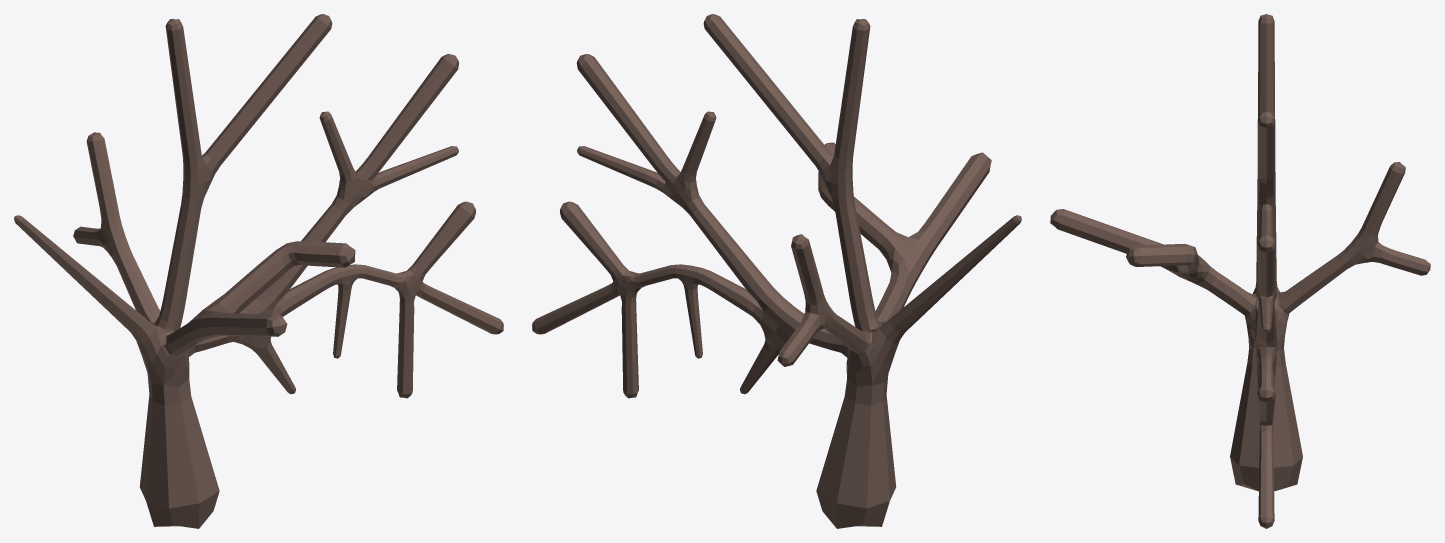
The model's file is Tree.fbx.
3 renders of one model, left to right at view 1: azimuth 30°, elevation 25°; view 2: azimuth 150°, elevation 25°; view 3: azimuth 270°, elevation 25°, orthographic. The views are drawn at different scales.
Parts seen in each view (by area): view 1: Plane; view 2: Plane; view 3: Plane.
Part boxes in pixels (x1,y1,x2,y2): Plane: (14, 14, 503, 528); Plane: (532, 14, 1021, 528); Plane: (1050, 14, 1430, 528).
Size of the model in its own units: 423 by 421 by 305.
